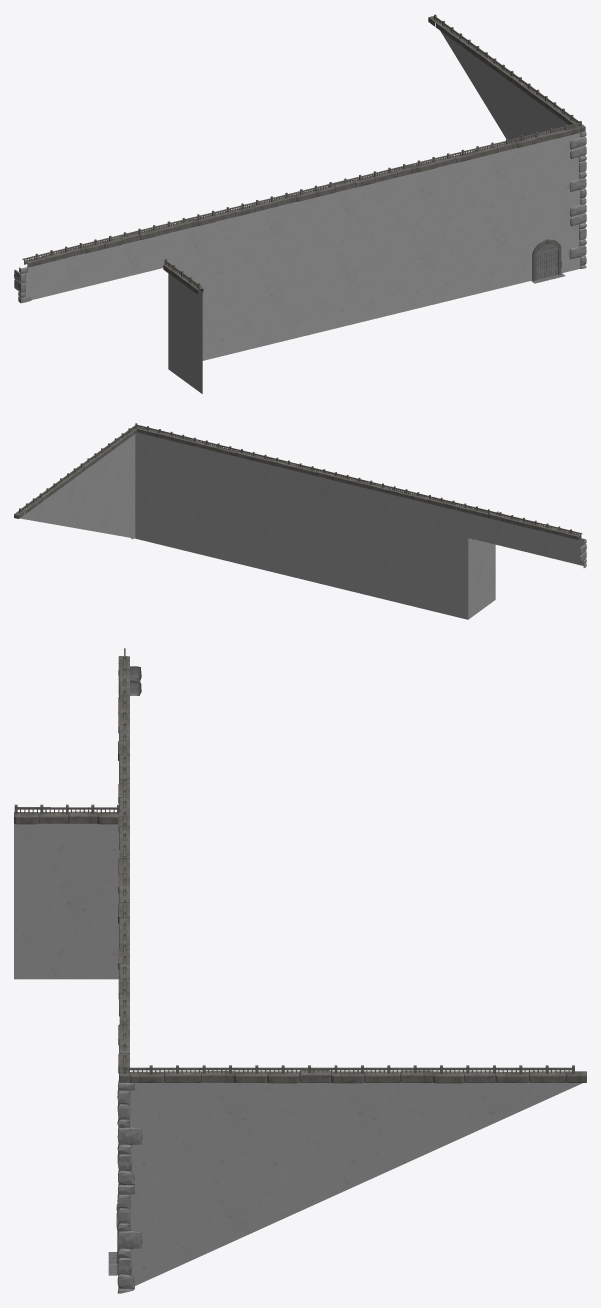
The model's file is SM_ENV_KNVLLG_Wall_01.mo.fbx.
3 views of the same model, one above another, from view 1: azimuth 30°, elevation 25°; view 2: azimuth 150°, elevation 25°; view 3: azimuth 270°, elevation 25° (orthographic). The views are drawn at different scales.
Parts seen in each view (by area): view 1: SM_ENV_KNVLLG_Wall_01.mo; view 2: SM_ENV_KNVLLG_Wall_01.mo; view 3: SM_ENV_KNVLLG_Wall_01.mo.
Boxes of the visible parts, left/top/right/bottom form: SM_ENV_KNVLLG_Wall_01.mo: left=14, top=14, right=586, bottom=393; SM_ENV_KNVLLG_Wall_01.mo: left=14, top=423, right=586, bottom=619; SM_ENV_KNVLLG_Wall_01.mo: left=14, top=648, right=586, bottom=1293.
Size of the model in its own units: 69.33 by 17.07 by 39.4.
